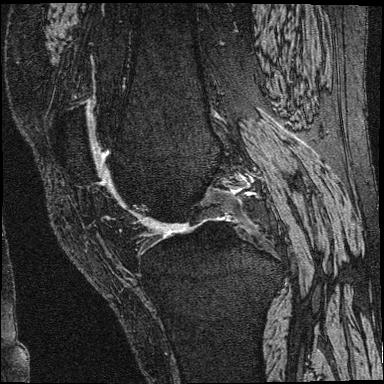SagKneeJointArea: (52, 104, 285, 295)
